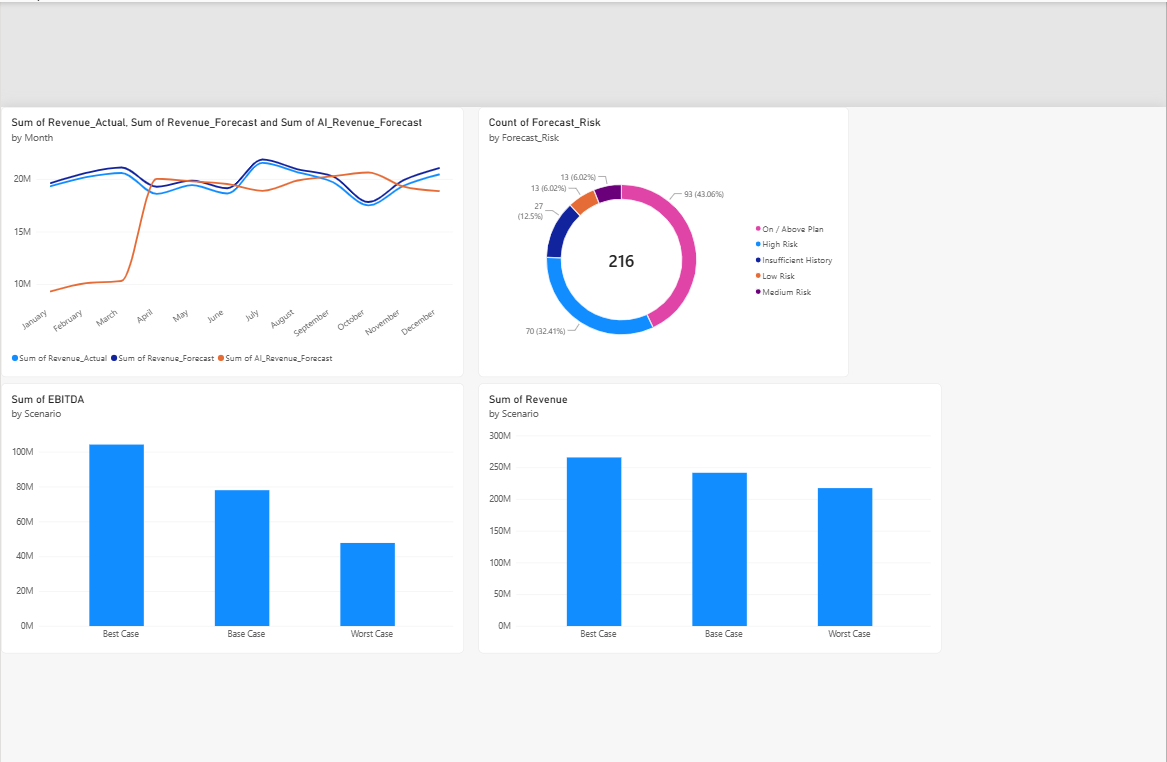

The dashboard page shown, as its layout file describes it:
{"tool":"powerbi","page":{"name":"Forecast and scenario","canvas":[1920,1080],"ordinal":1},"visuals":[{"type":"lineChart","fields":{"Category":["Forecast Detail.Month.Variation.Date Hierarchy.Month"],"Y":["Sum(Forecast Detail.Revenue_Actual)","Sum(Forecast Detail.Revenue_Forecast)","Sum(Forecast Detail.AI_Revenue_Forecast)"]},"box":[0,0,761.6,444.6],"z":0},{"type":"clusteredColumnChart","fields":{"Category":["Scenario Summary.Scenario"],"Y":["Sum(Scenario Summary.EBITDA)"]},"box":[0,455,762,445],"z":1},{"type":"clusteredColumnChart","fields":{"Category":["Scenario Summary.Scenario"],"Y":["Sum(Scenario Summary.Revenue)"]},"box":[786.3,454.9,762,445],"z":2},{"type":"donutChart","fields":{"Category":["Forecast Detail.Forecast_Risk"],"Y":["CountNonNull(Forecast Detail.Forecast_Risk)"]},"box":[786.3,0,609.3,444.6],"z":3}]}

Visuals, with their boxes on the page's 1920x1080 design canvas (x1, y1, x2, y2). These are canvas units, not pixel positions in the 1167x762 screenshot, which may show the page scaled, cropped or inside an application window:
lineChart - Forecast Detail.Month.Variation.Date Hierarchy.Month x Sum(Forecast Detail.Revenue_Actual): rect(0, 0, 762, 445)
clusteredColumnChart - Scenario Summary.Scenario x Sum(Scenario Summary.EBITDA): rect(0, 455, 762, 900)
clusteredColumnChart - Scenario Summary.Scenario x Sum(Scenario Summary.Revenue): rect(786, 455, 1548, 900)
donutChart - Forecast Detail.Forecast_Risk x CountNonNull(Forecast Detail.Forecast_Risk): rect(786, 0, 1396, 445)
